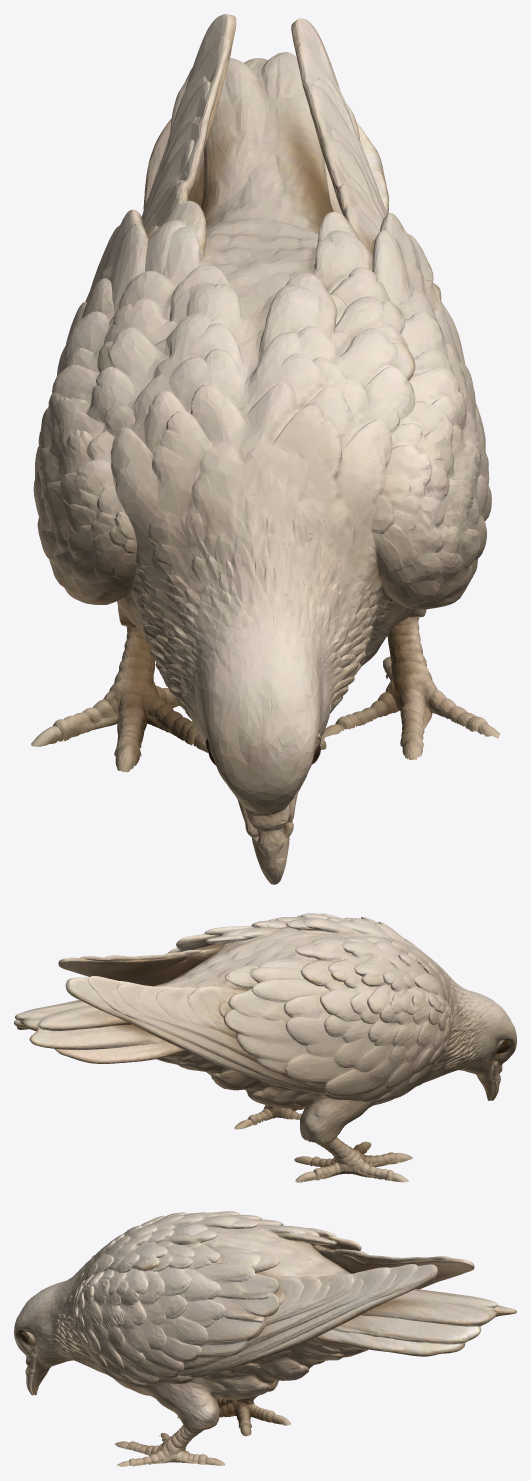
File: dove-peck.glb
The picture shows the model from 3 angles, top to bottom: view 1: azimuth 30°, elevation 25°; view 2: azimuth 150°, elevation 25°; view 3: azimuth 270°, elevation 25°; orthographic projection. The views are drawn at different scales.
Visible parts, largest first — view 1: meshes[0]; view 2: meshes[0]; view 3: meshes[0].
Part boxes in pixels (bbox=[...]): meshes[0]: bbox=[31, 14, 499, 884]; meshes[0]: bbox=[14, 913, 516, 1182]; meshes[0]: bbox=[14, 1211, 516, 1466].
Bounding box in the file's own units: 0.3057 × 0.2441 × 0.4758.
Materials: 1 (1 with a texture image).
